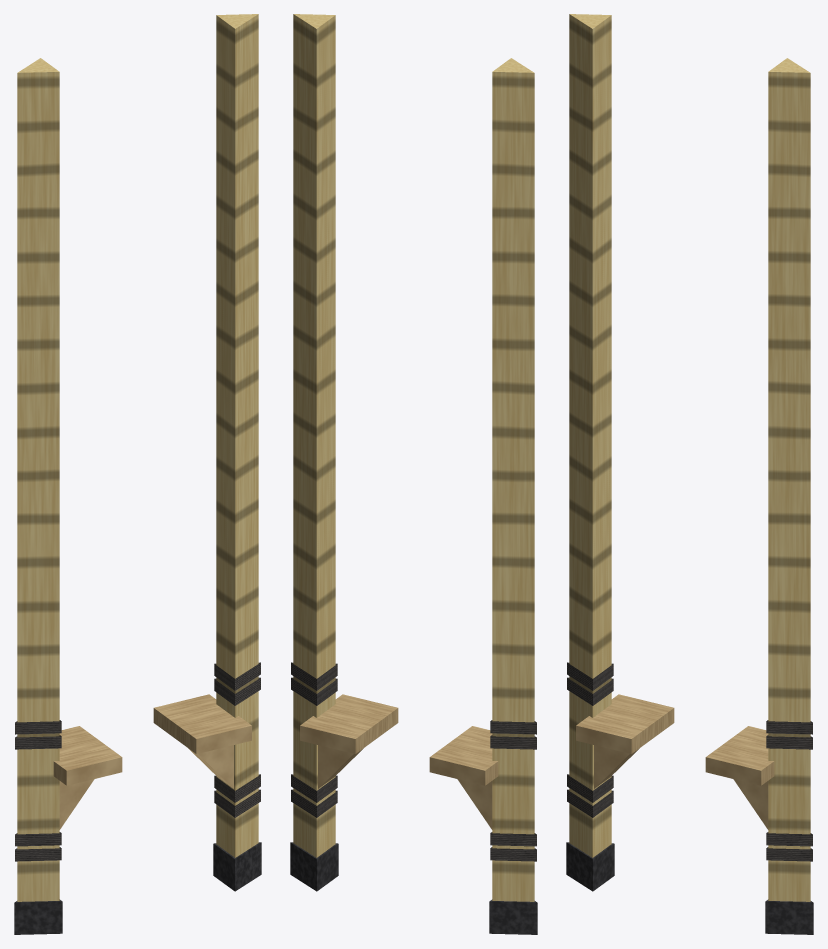
Rendered from Egrang_Segitiga.fbx.
3 views of the same model, side by side, from view 1: azimuth 30°, elevation 25°; view 2: azimuth 150°, elevation 25°; view 3: azimuth 330°, elevation 25° (orthographic).
Visible parts, largest first — view 1: Egrang_Segitiga_L, Egrang_Segitiga_R; view 2: Egrang_Segitiga_L, Egrang_Segitiga_R; view 3: Egrang_Segitiga_R, Egrang_Segitiga_L.
Part boxes in pixels (bbox=[...]): Egrang_Segitiga_L: bbox=[14, 58, 122, 934]; Egrang_Segitiga_R: bbox=[153, 14, 261, 891]; Egrang_Segitiga_L: bbox=[429, 58, 537, 934]; Egrang_Segitiga_R: bbox=[290, 14, 398, 891]; Egrang_Segitiga_R: bbox=[705, 58, 813, 934]; Egrang_Segitiga_L: bbox=[566, 14, 674, 891].
Bounding box in the file's own units: 60.16 × 200 × 18.
Materials: 1 (1 with a texture image).
